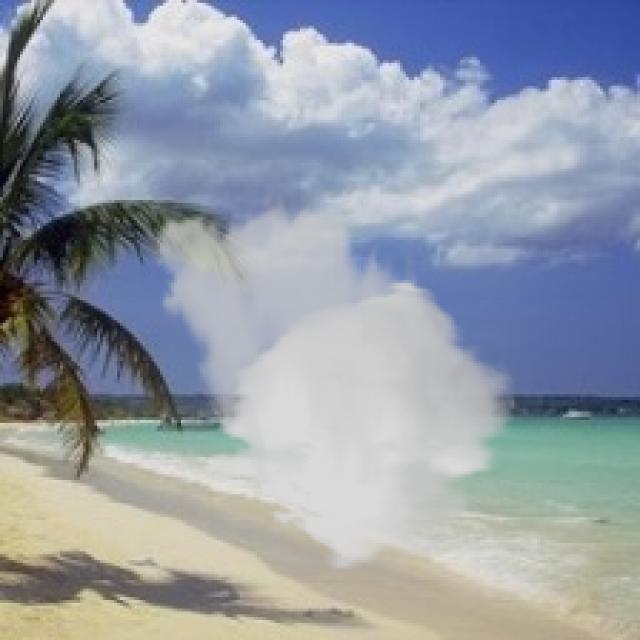smoke: (137, 192, 514, 572)
